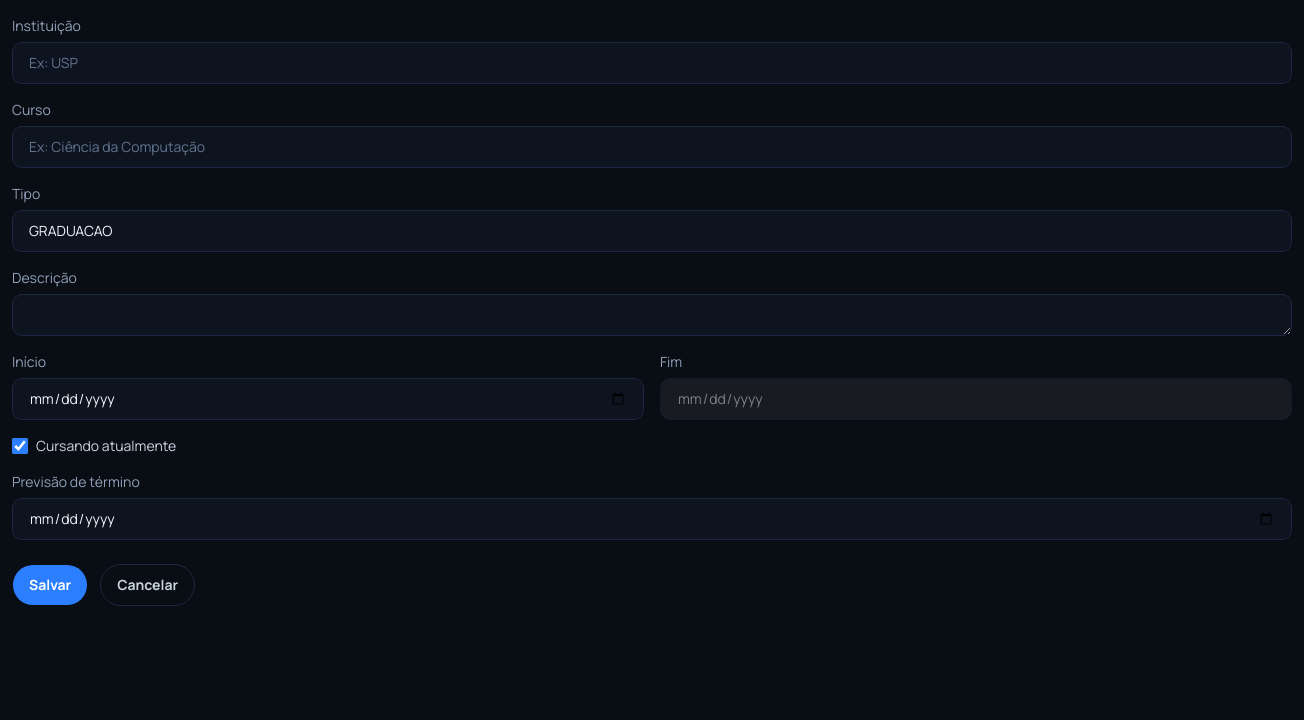
Test case: EducationForm › clears the field error once the user fixes the input
Click the button "Salvar".
click(50, 585)  # box [12,564,88,606]
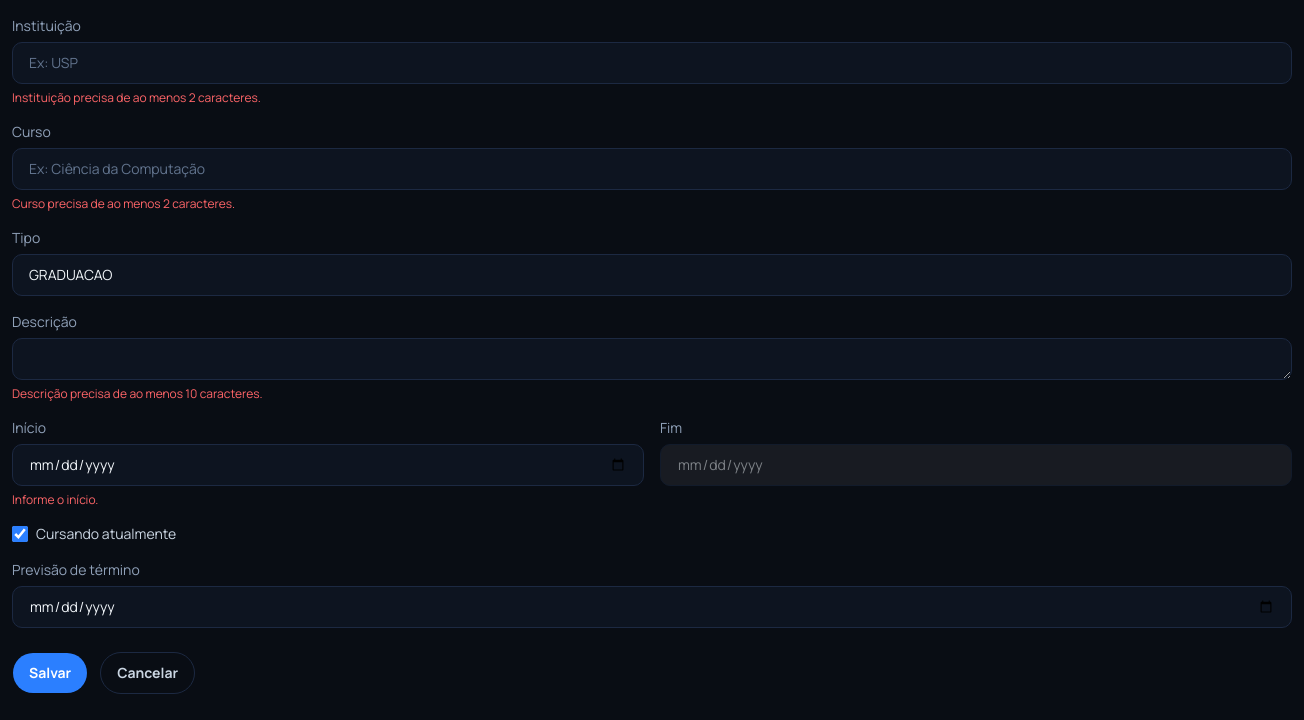
Now the text "Instituição precisa de ao menos 2 caracteres." is shown, box [12,89,261,106]
Type "USP" into the field with placeholder "Ex: USP".
click(652, 63); type("USP")  # box [12,42,1292,84]
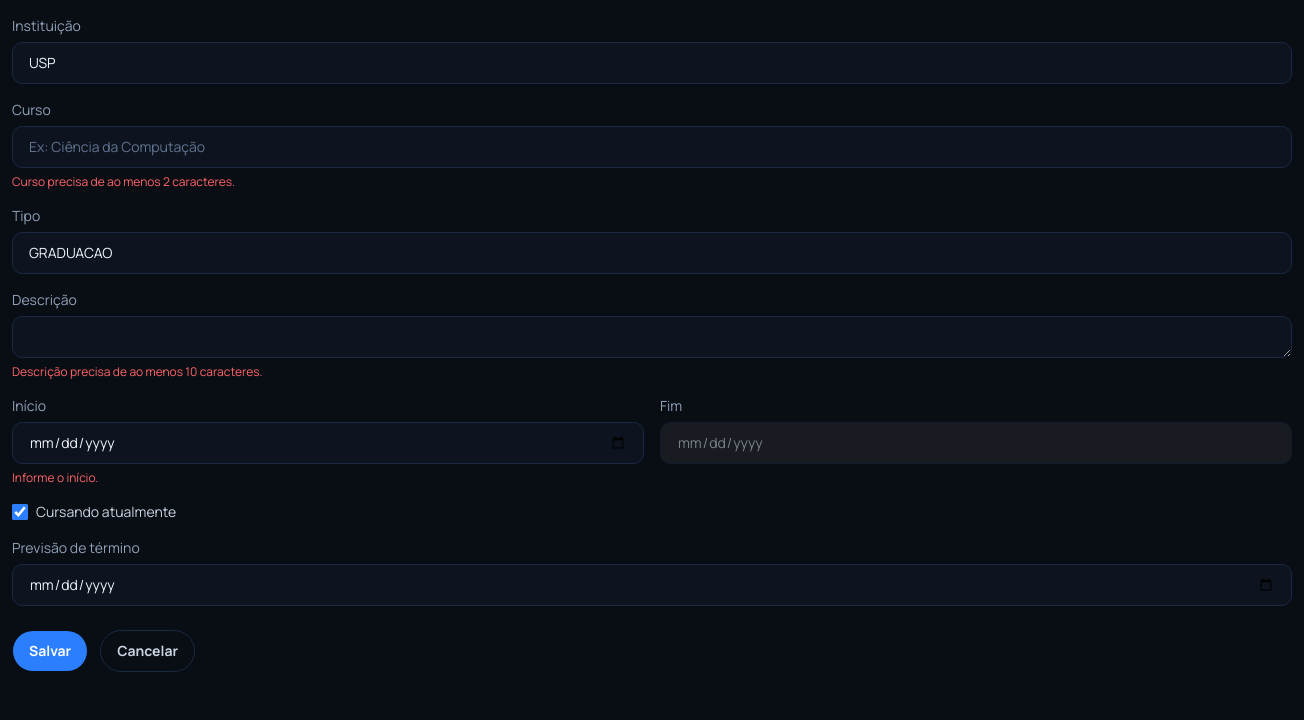
Now the text "Instituição precisa de ao menos 2 caracteres." is gone
